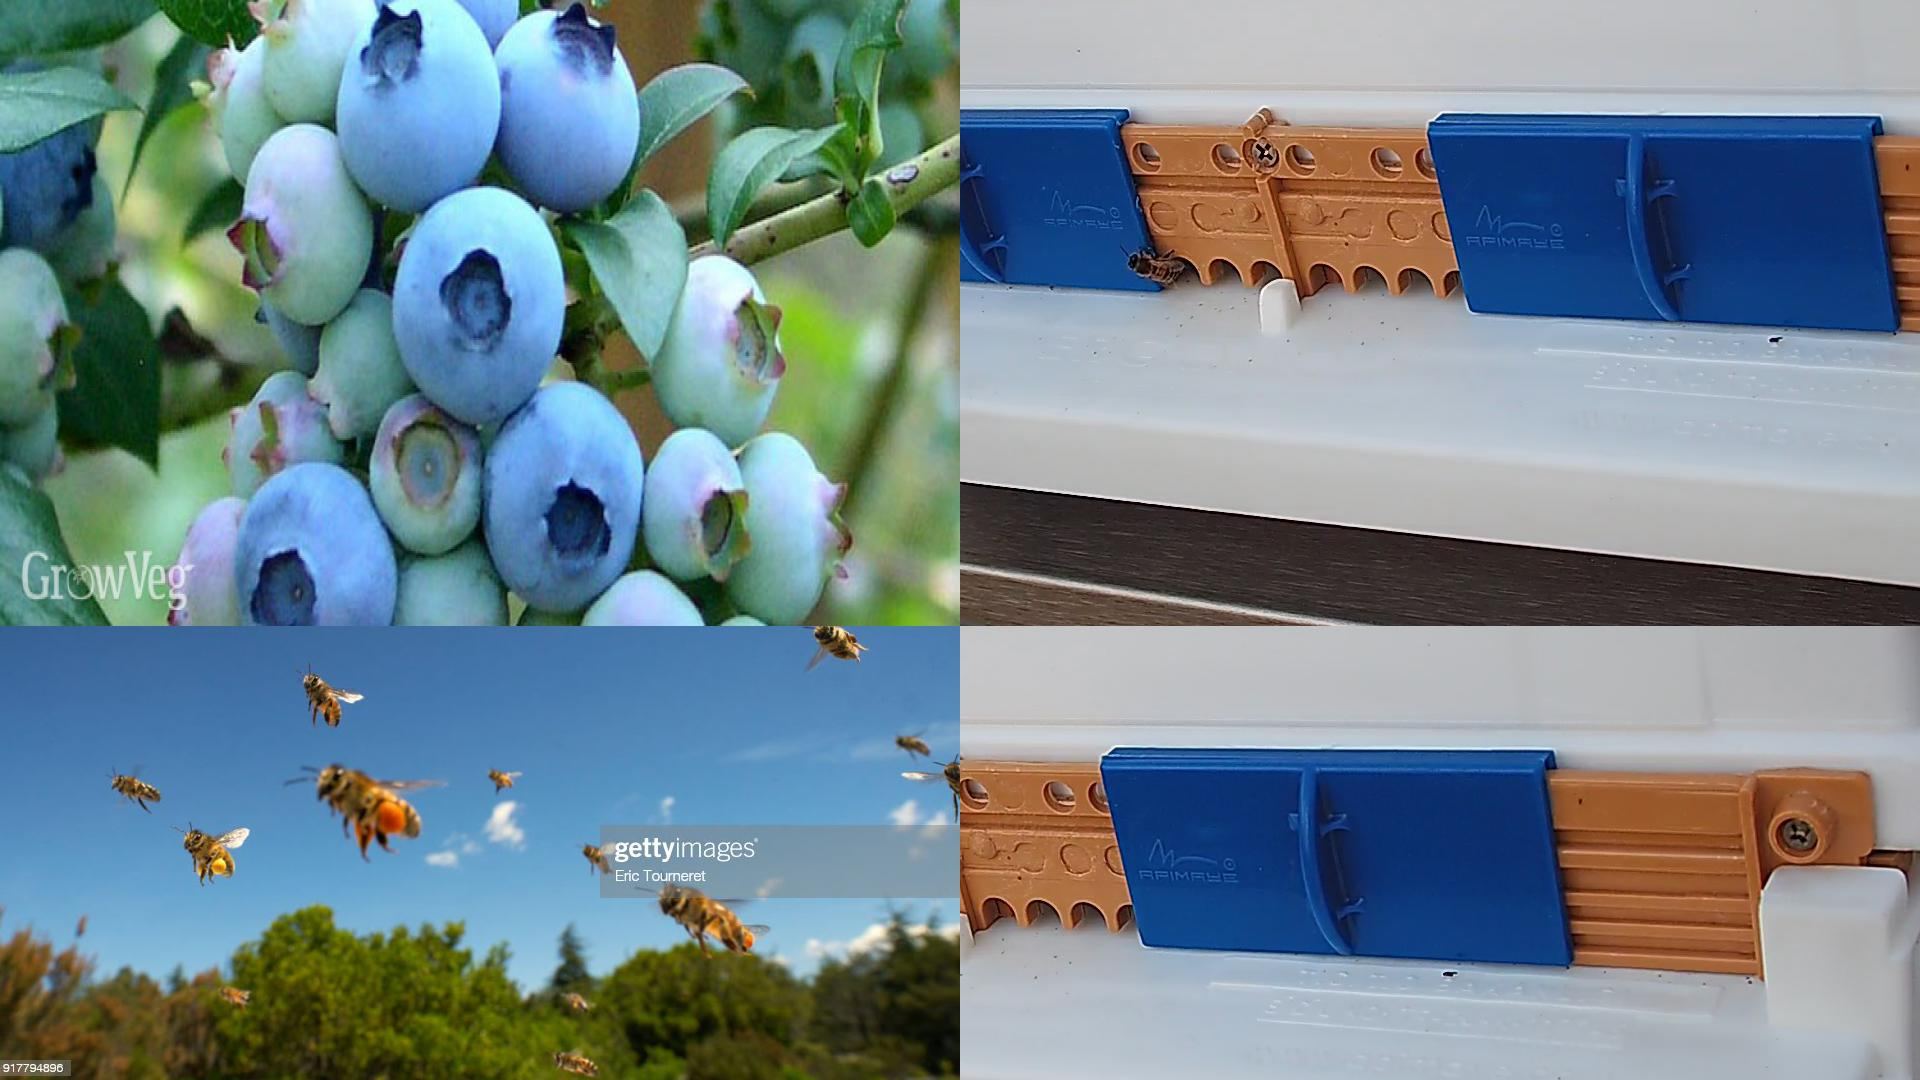bee: (661, 886, 752, 949), (303, 675, 340, 725), (1125, 252, 1187, 280), (816, 626, 860, 659), (109, 775, 161, 800), (554, 1052, 597, 1077), (584, 845, 612, 873), (895, 736, 930, 754), (944, 764, 959, 804), (218, 988, 249, 1002), (570, 996, 588, 1013), (489, 771, 510, 786)
pollenbee: (320, 764, 419, 840), (183, 832, 233, 880)
